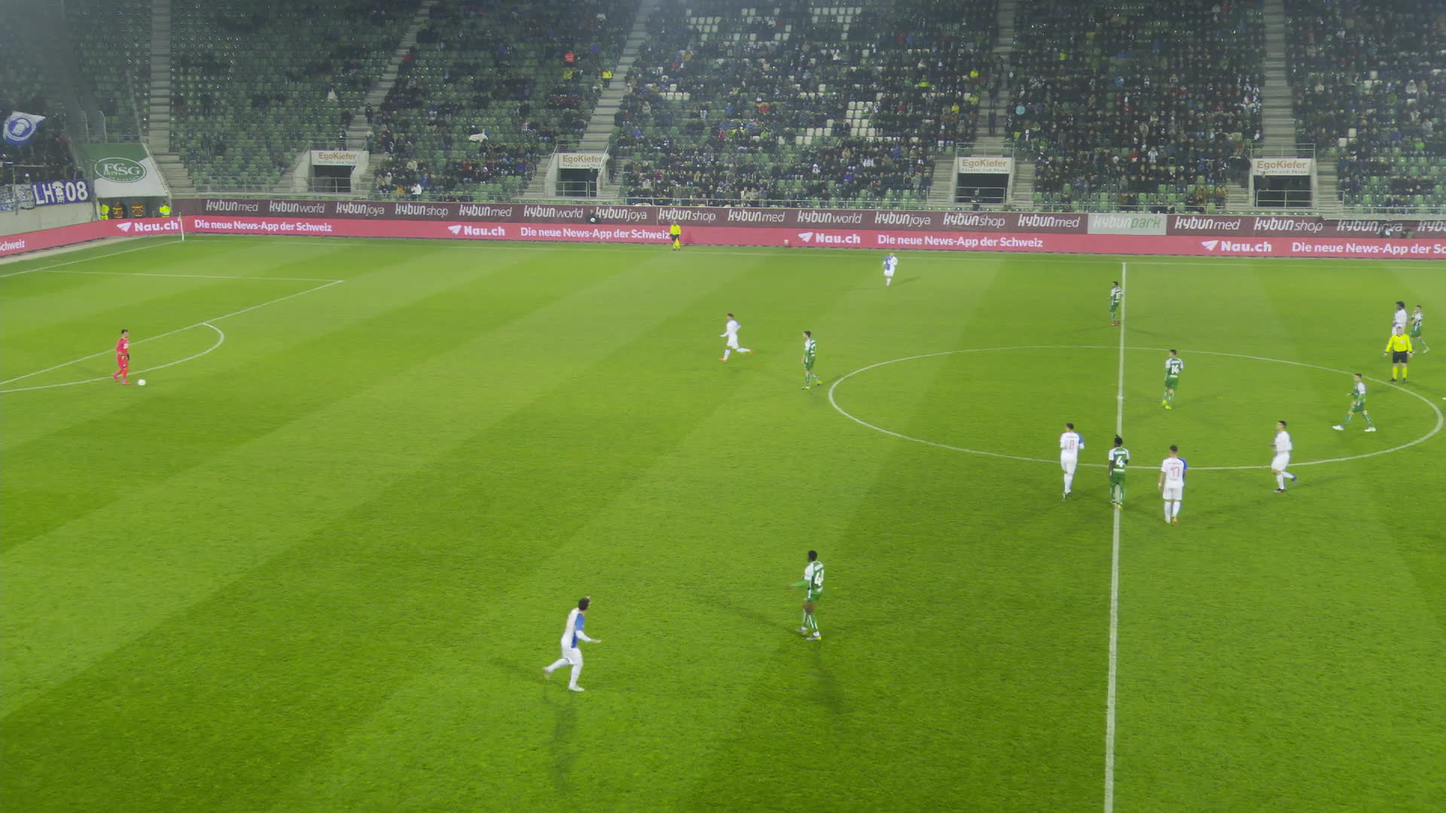ball: (137, 379, 144, 385)
player: (546, 595, 602, 691), (783, 549, 823, 640), (1267, 420, 1302, 493), (1158, 444, 1188, 524), (1338, 370, 1371, 431), (1058, 423, 1083, 502), (1107, 434, 1130, 510), (720, 312, 753, 361), (1158, 349, 1182, 410), (109, 330, 133, 385), (800, 329, 821, 388), (1405, 304, 1429, 354), (1390, 300, 1407, 346), (1107, 281, 1122, 324), (881, 251, 897, 286)
referee: (1383, 327, 1410, 384), (669, 220, 681, 251)
